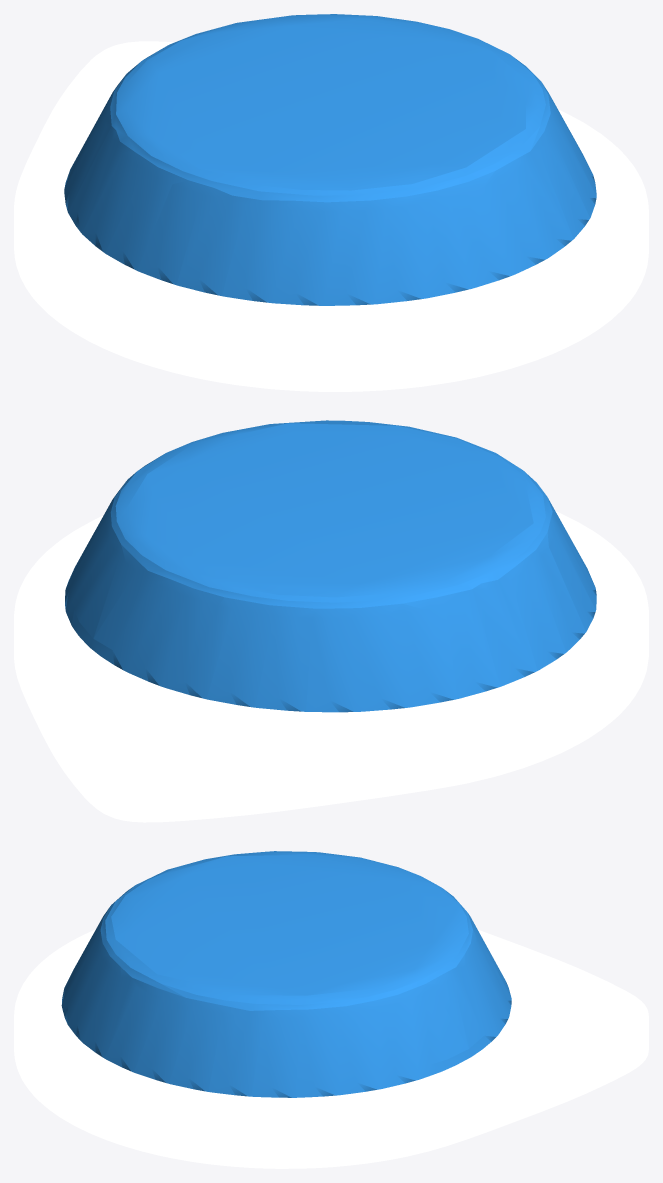
The model's file is pointer_v2.glb.
3 renders of one model, top to bottom at view 1: azimuth 30°, elevation 25°; view 2: azimuth 150°, elevation 25°; view 3: azimuth 270°, elevation 25°, orthographic. The views are drawn at different scales.
Visible parts, largest first — view 1: Cylinder_Cylinder.003, Circle.002; view 2: Cylinder_Cylinder.003, Circle.002; view 3: Cylinder_Cylinder.003, Circle.002.
Part boxes in pixels (x1,y1,x2,y2): Cylinder_Cylinder.003: [64, 14, 596, 305]; Circle.002: [14, 41, 648, 391]; Cylinder_Cylinder.003: [65, 420, 596, 712]; Circle.002: [14, 511, 648, 822]; Cylinder_Cylinder.003: [61, 851, 511, 1097]; Circle.002: [14, 929, 648, 1168].
Size of the model in its own units: 1.5 by 0.4274 by 1.79.
